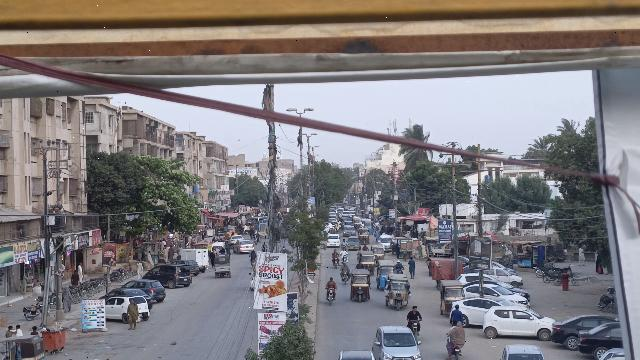Bike: (405, 316, 423, 338), (324, 287, 337, 305), (450, 342, 463, 360), (340, 269, 350, 285), (341, 254, 349, 266), (332, 257, 340, 268)
Car: (480, 303, 558, 345), (547, 311, 611, 351), (572, 318, 625, 359), (372, 324, 422, 360), (450, 295, 505, 327), (104, 294, 150, 324), (123, 277, 168, 304), (145, 264, 194, 288), (500, 343, 546, 360)
Person: (126, 296, 141, 333), (446, 319, 468, 342), (449, 303, 466, 327), (407, 255, 418, 279), (406, 304, 422, 320), (324, 276, 337, 288), (339, 261, 351, 271), (339, 246, 349, 255), (331, 248, 339, 257)
Rickshaw: (384, 273, 411, 312), (436, 278, 463, 315), (348, 267, 372, 303), (375, 257, 395, 291), (212, 253, 234, 280), (355, 250, 378, 275)
Truck: (176, 246, 211, 272)
